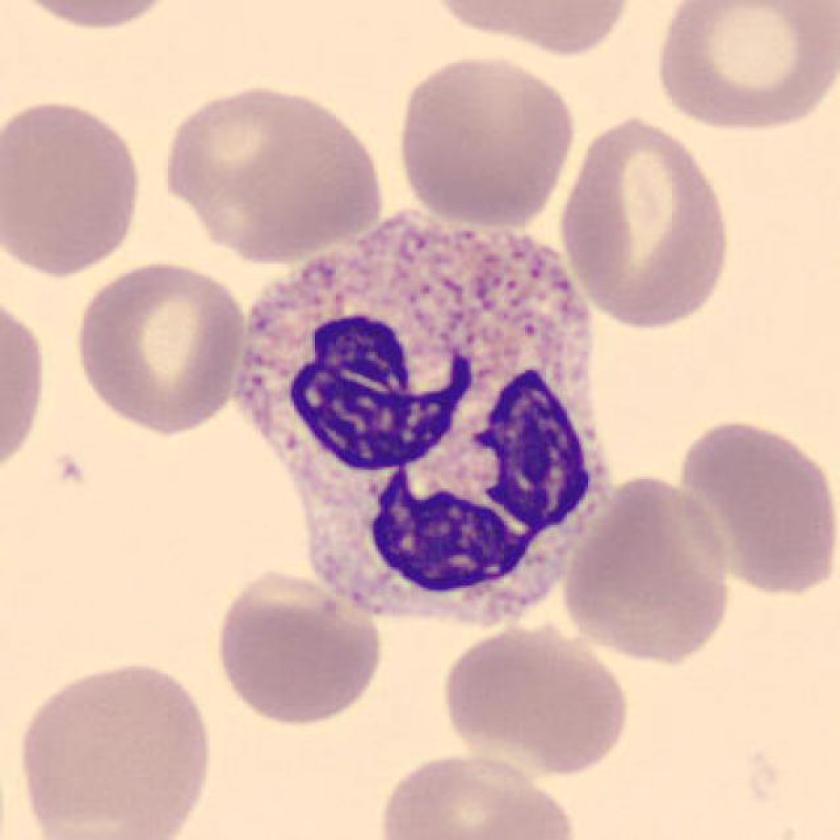neutrophil: (233, 212, 610, 623)
